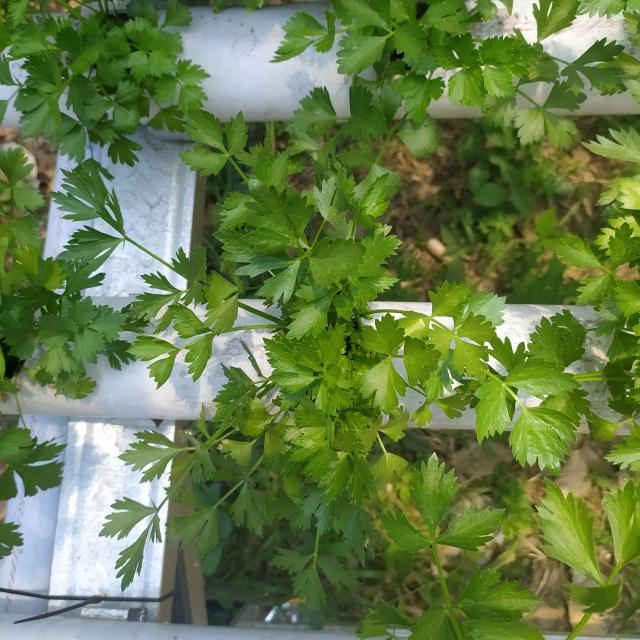Wet Waste: (106, 78, 575, 592), (3, 84, 98, 368), (8, 440, 104, 629)
